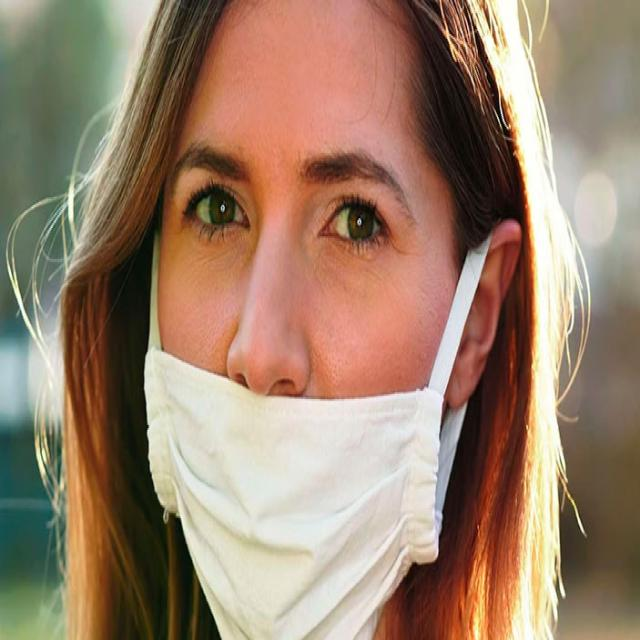mask: (121, 313, 461, 640)
